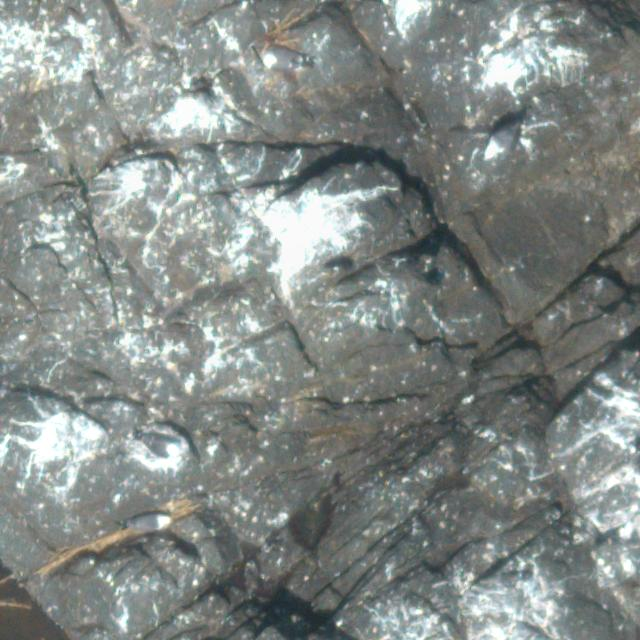umineko: (487, 113, 527, 158), (138, 428, 181, 458), (122, 512, 172, 533), (264, 51, 298, 69)
